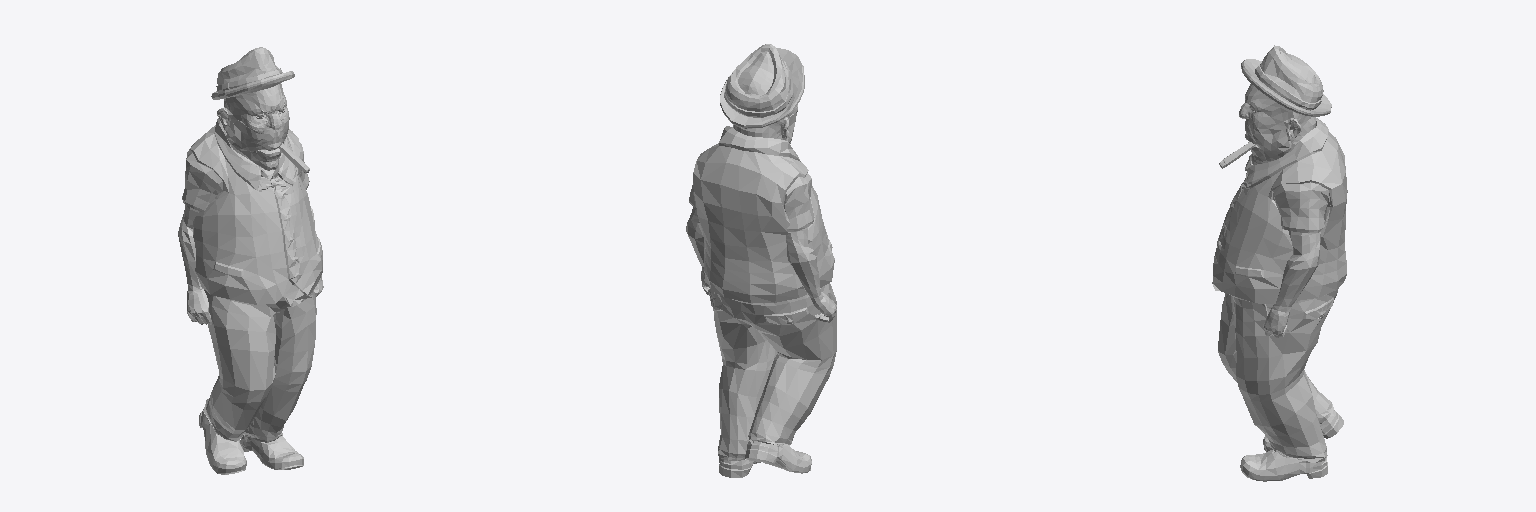
Rendered from walk0017.obj.
The picture shows the model from 3 angles: view 1: azimuth 30°, elevation 25°; view 2: azimuth 150°, elevation 25°; view 3: azimuth 270°, elevation 25°; orthographic projection.
Visible parts, largest first — view 1: mixamorig:Jacket_Geo, mixamorig:Pants_Geo, mixamorig:Head_Geo, mixamorig:Shoes_Geo, mixamorig:Hat_Geo, mixamorig:Arms_Geo; view 2: mixamorig:Jacket_Geo, mixamorig:Pants_Geo, mixamorig:Hat_Geo, mixamorig:Arms_Geo, mixamorig:Shoes_Geo, mixamorig:Head_Geo; view 3: mixamorig:Jacket_Geo, mixamorig:Pants_Geo, mixamorig:Hat_Geo, mixamorig:Head_Geo, mixamorig:Arms_Geo, mixamorig:Shoes_Geo.
Boxes of the visible parts, <box> form: mixamorig:Jacket_Geo: <box>182,118,322,306</box>; mixamorig:Pants_Geo: <box>203,289,316,442</box>; mixamorig:Head_Geo: <box>217,83,289,179</box>; mixamorig:Shoes_Geo: <box>199,409,303,474</box>; mixamorig:Hat_Geo: <box>211,47,294,99</box>; mixamorig:Arms_Geo: <box>178,205,323,324</box>; mixamorig:Jacket_Geo: <box>689,126,834,302</box>; mixamorig:Pants_Geo: <box>709,283,836,460</box>; mixamorig:Hat_Geo: <box>720,44,804,128</box>; mixamorig:Arms_Geo: <box>686,207,836,322</box>; mixamorig:Shoes_Geo: <box>719,440,811,477</box>; mixamorig:Head_Geo: <box>733,105,797,143</box>; mixamorig:Jacket_Geo: <box>1212,118,1347,303</box>; mixamorig:Pants_Geo: <box>1218,288,1338,462</box>; mixamorig:Hat_Geo: <box>1241,45,1331,116</box>; mixamorig:Head_Geo: <box>1239,84,1315,164</box>; mixamorig:Arms_Geo: <box>1263,231,1320,337</box>; mixamorig:Shoes_Geo: <box>1240,410,1343,481</box>.
Bounding box in the file's own units: 0.6642 × 1.98 × 0.5777.